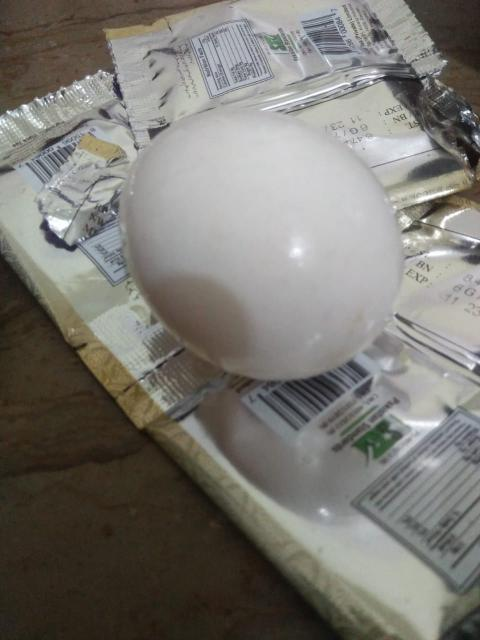Sano: (120, 105, 406, 386)
